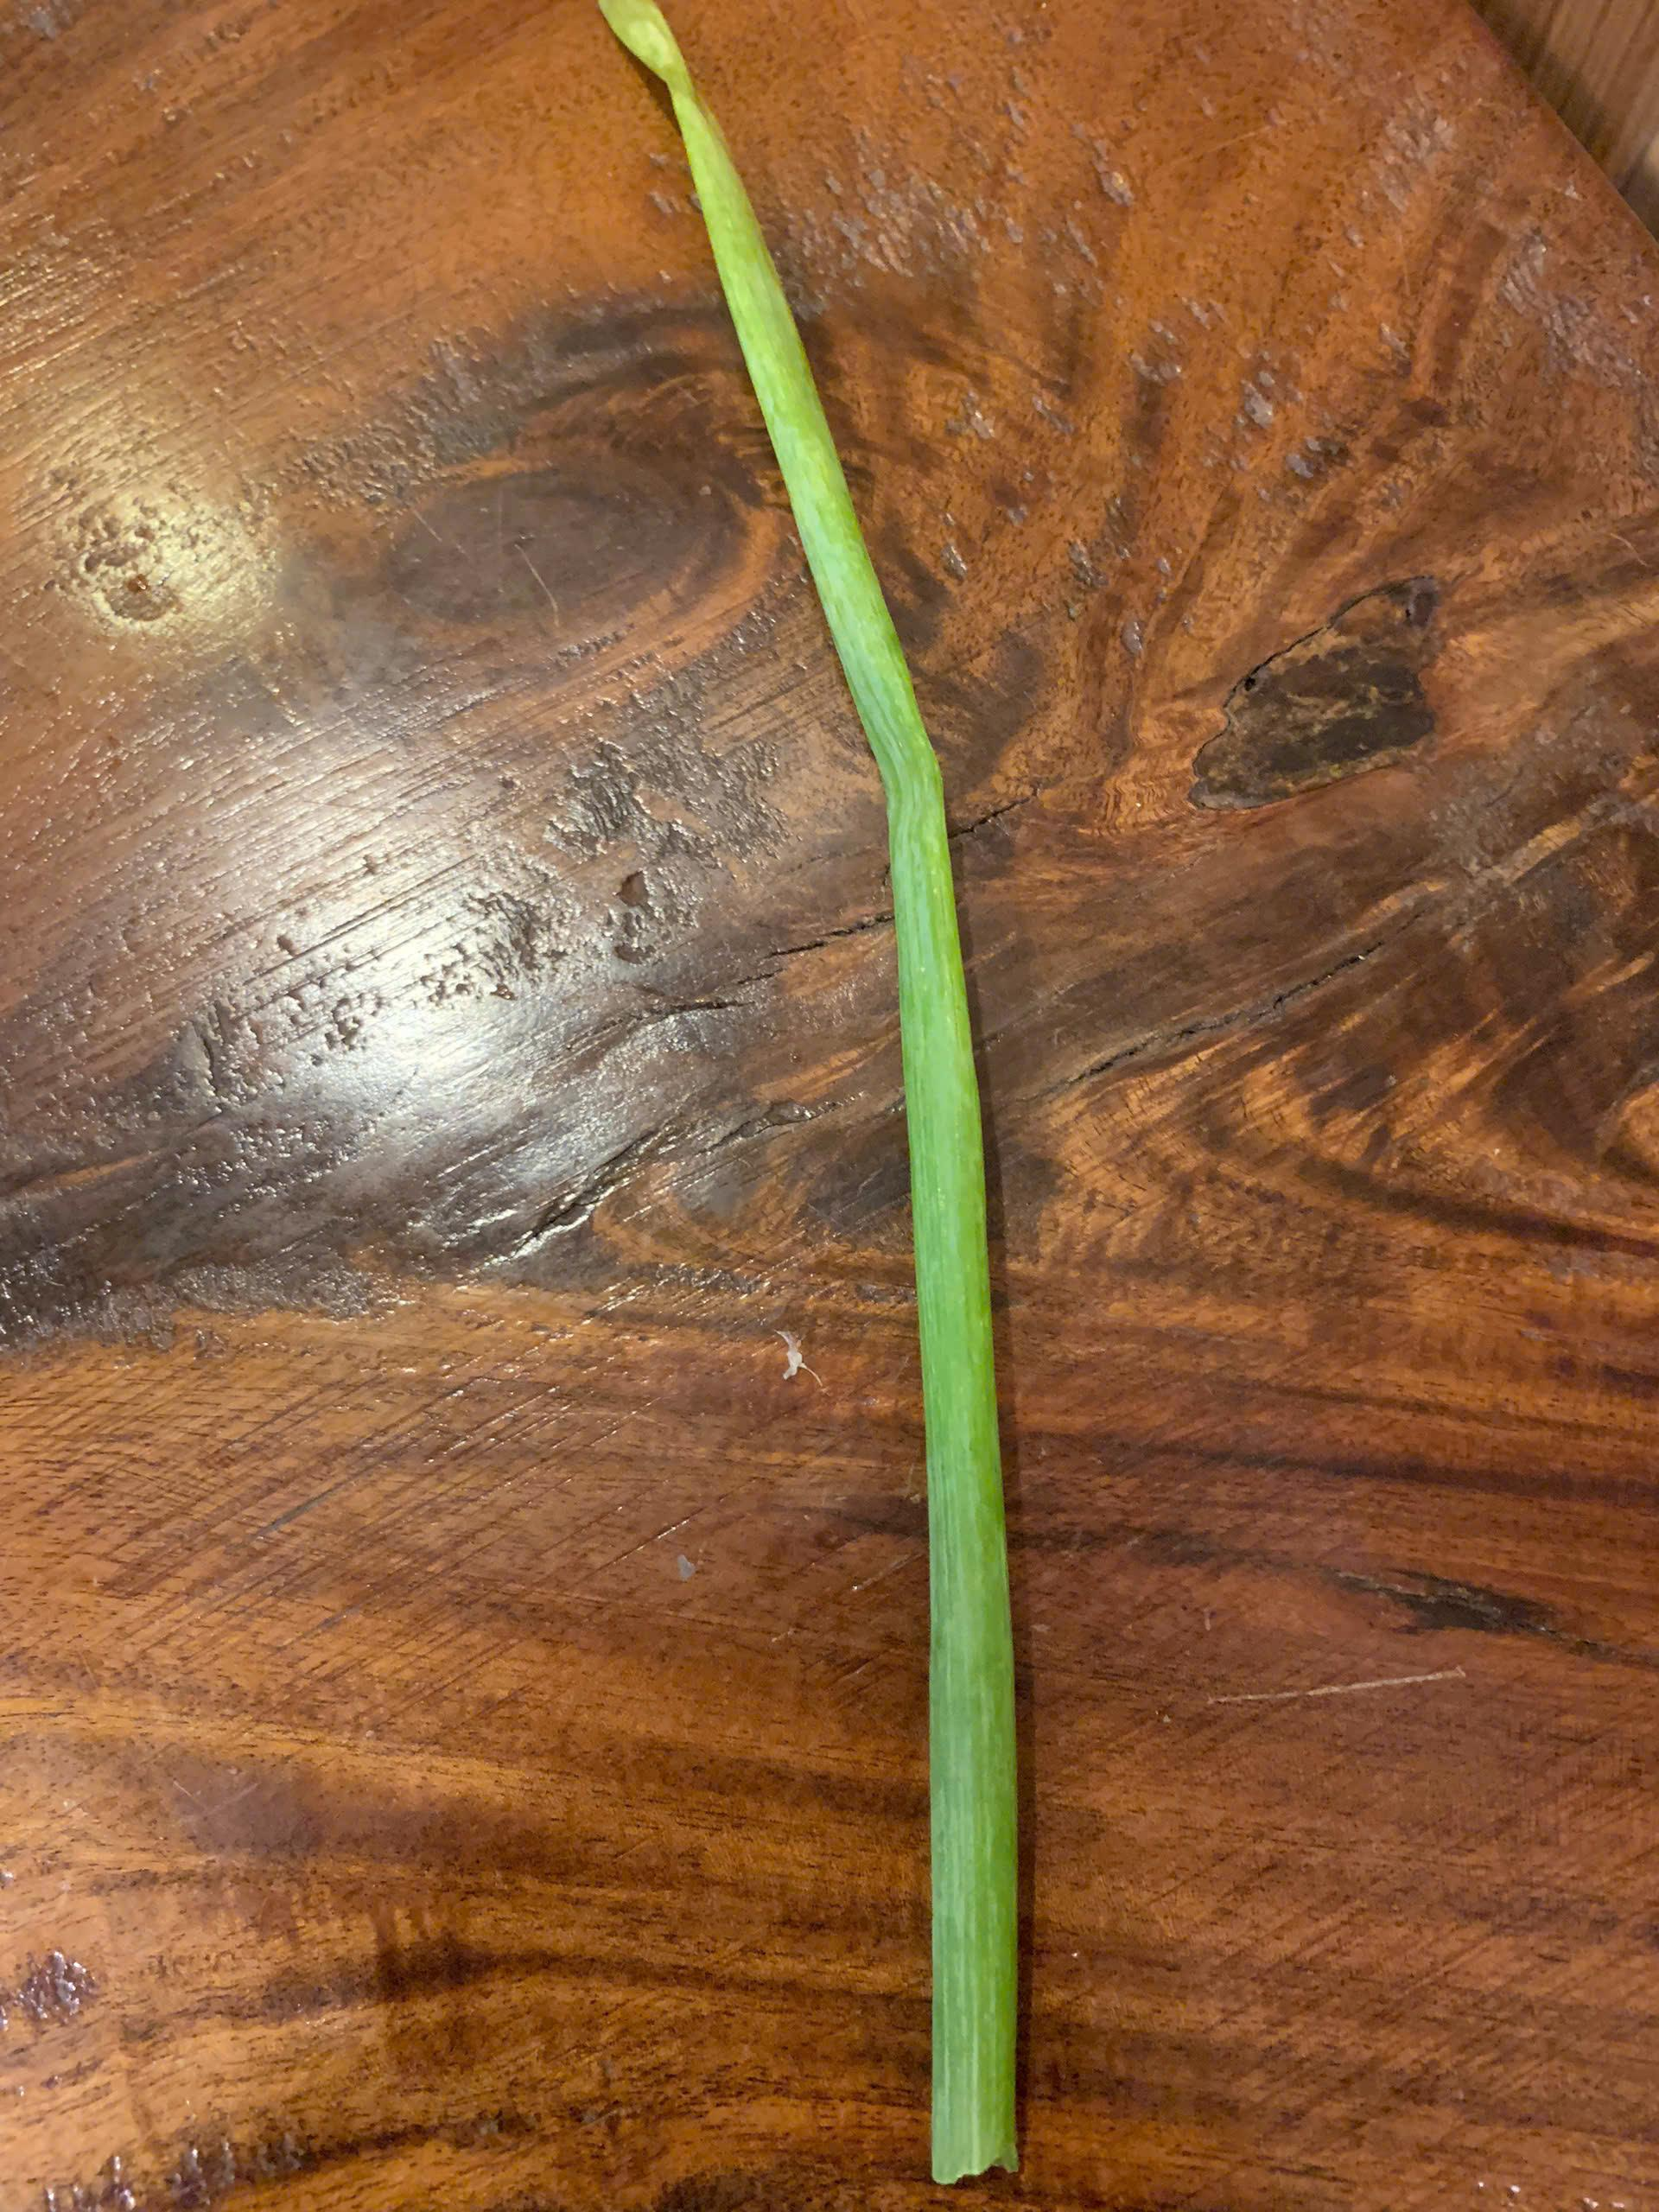Huu co: (605, 0, 1033, 2179)
